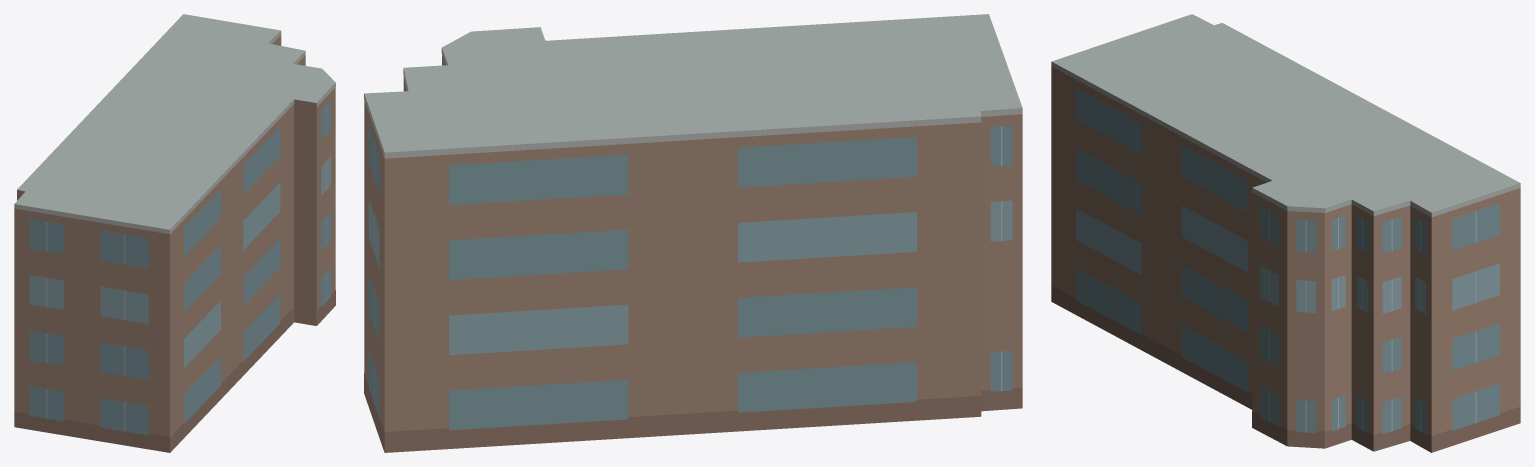
The model's file is survey-upis-32631956.glb.
3 views of the same model, side by side, from view 1: azimuth 30°, elevation 25°; view 2: azimuth 150°, elevation 25°; view 3: azimuth 270°, elevation 25° (orthographic). The views are drawn at different scales.
Parts seen in each view (by area): view 1: survey-upis-32631956.tmp; view 2: survey-upis-32631956.tmp; view 3: survey-upis-32631956.tmp.
Part boxes in pixels (x1,y1,x2,y2): survey-upis-32631956.tmp: (14, 14, 335, 452); survey-upis-32631956.tmp: (364, 14, 1022, 452); survey-upis-32631956.tmp: (1051, 14, 1520, 452).
Bounding box in the file's own units: 21.65 × 12.2 × 21.6.
